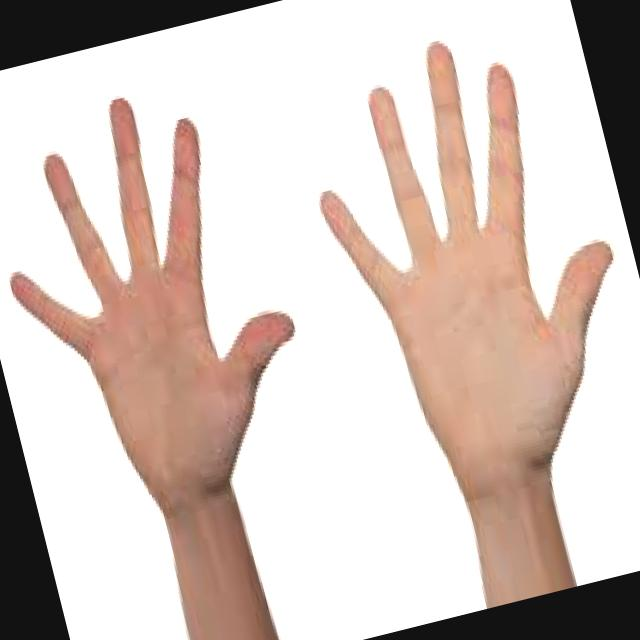Hand: (275, 0, 640, 519), (0, 62, 336, 537)
